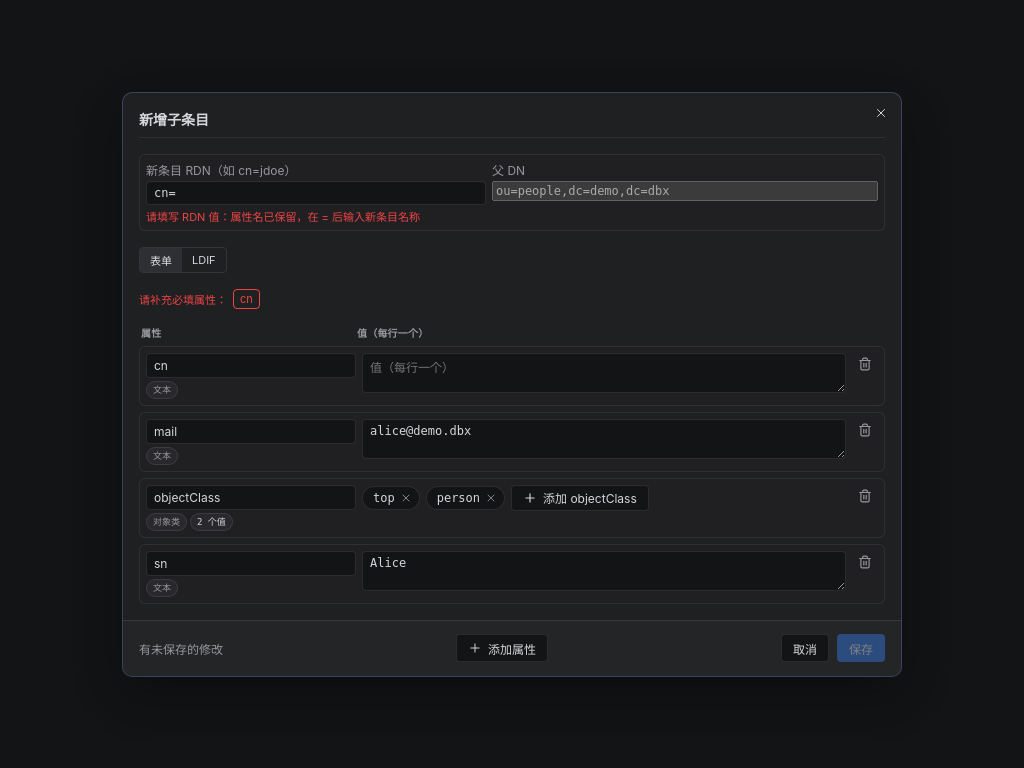
Scenario: EntryEditorDialog copy-entry prefill › fills only blank rows for multi-component RDNs, keeping other prefilled values
Replace the text in the field labelled "新条目 RDN（如 cn=jdoe） 请填写 RDN 值：属性名已保留，在 = 后输入新条目名称" with "cn=Ana+sn=Lee": (316, 192) x1=146 y1=180 x2=486 y2=204
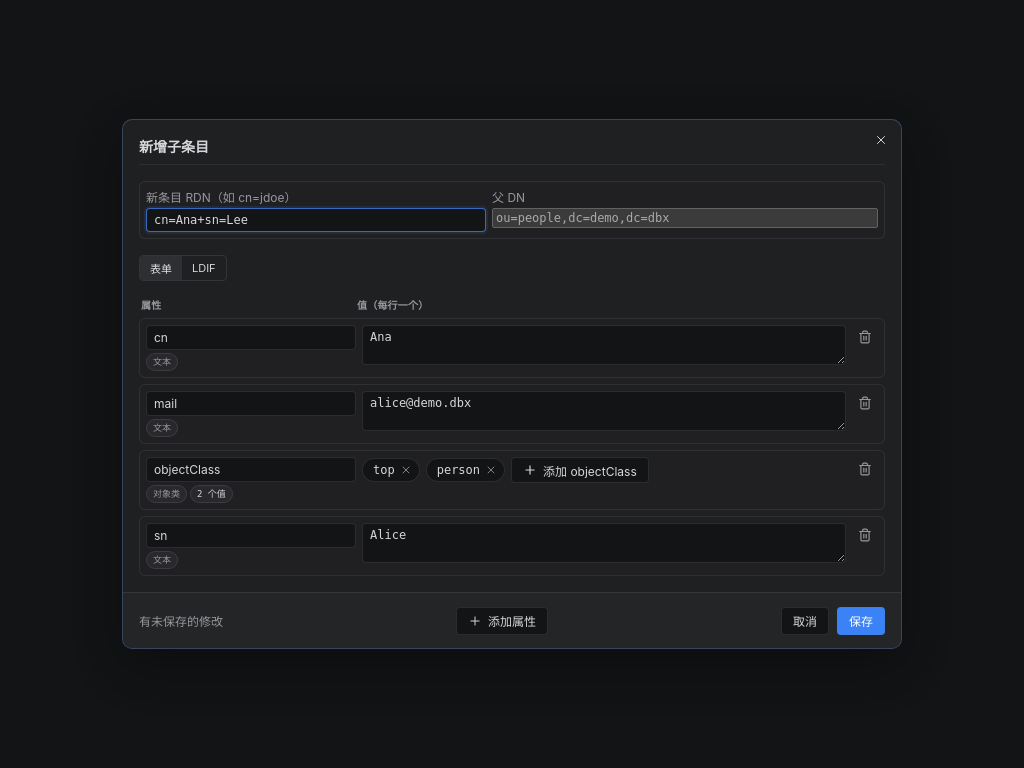
Expected: the text box named "sn" holds "Alice", x1=362 y1=523 x2=846 y2=563
Now the text box named "cn" holds "Ana", box x1=362 y1=325 x2=846 y2=365
